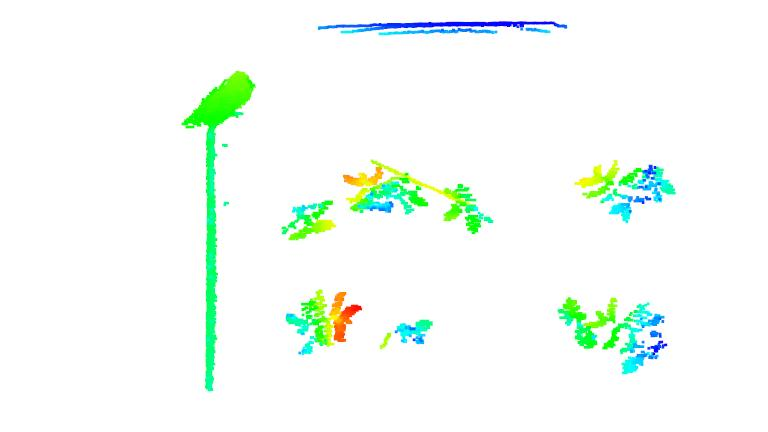chickpea: (559, 296, 669, 372), (575, 160, 675, 225), (279, 284, 366, 358), (337, 159, 430, 220), (278, 195, 338, 247), (439, 181, 494, 235), (376, 316, 441, 355)
